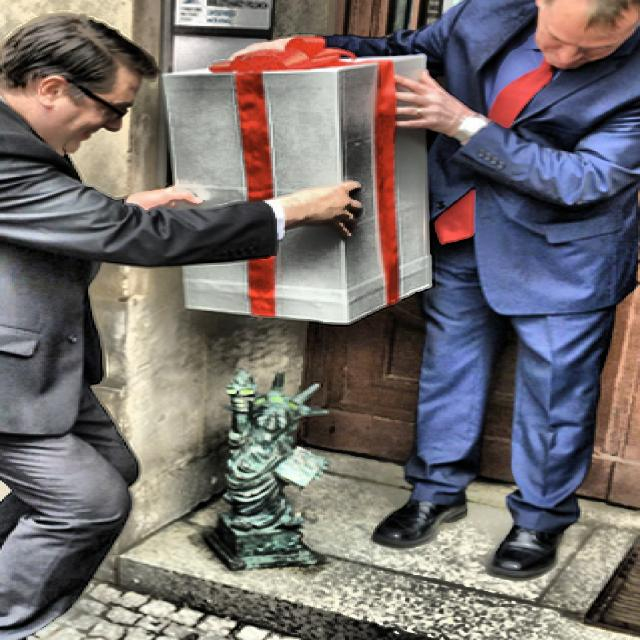LadyWolnosc: (206, 370, 328, 569)
